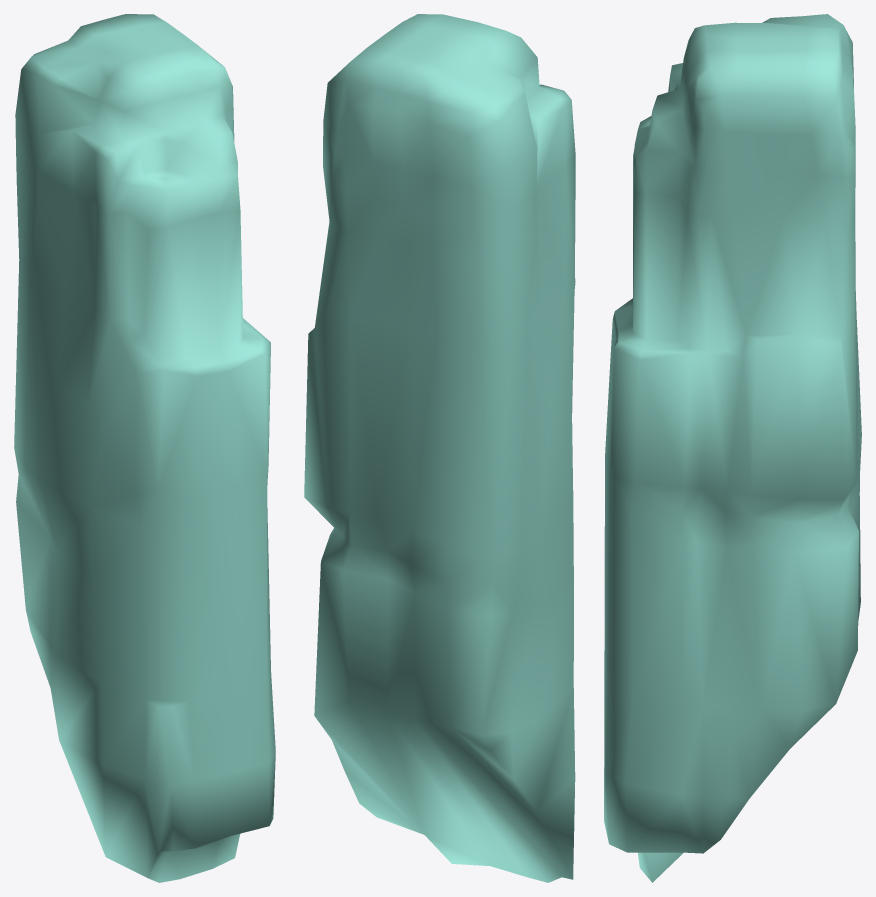
File: RockBigSize_4.FBX
3 views of the same model, side by side, from view 1: azimuth 30°, elevation 25°; view 2: azimuth 150°, elevation 25°; view 3: azimuth 270°, elevation 25° (orthographic). The views are drawn at different scales.
Visible parts, largest first — view 1: RockBigSize_4; view 2: RockBigSize_4; view 3: RockBigSize_4.
Boxes of the visible parts, left/top/right/bottom form: RockBigSize_4: left=14, top=14, right=275, bottom=882; RockBigSize_4: left=304, top=14, right=575, bottom=882; RockBigSize_4: left=604, top=14, right=861, bottom=882.
Size of the model in its own units: 367 by 1475 by 418.
